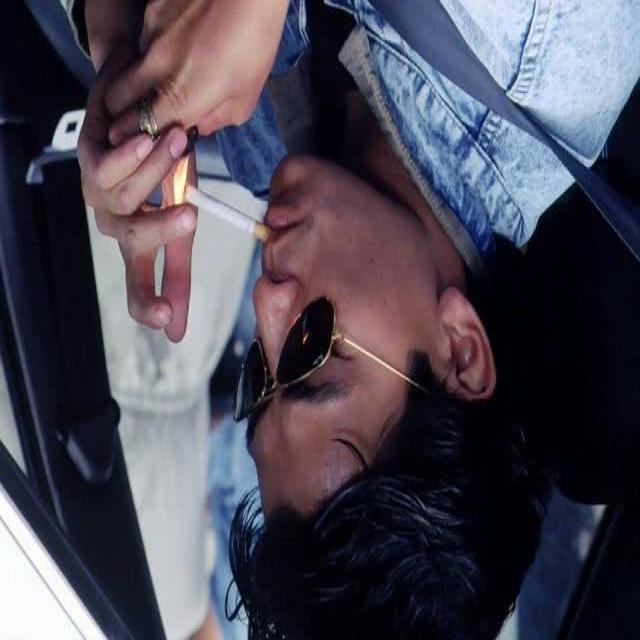cigarette: (161, 173, 291, 287)
